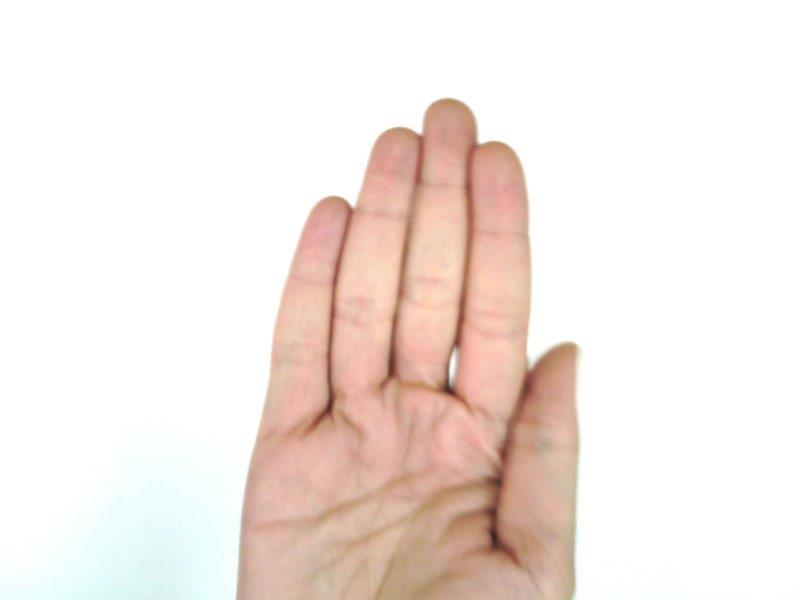hand: (241, 97, 579, 600)
